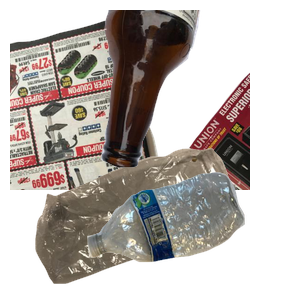glass: (99, 10, 300, 170)
paper: (10, 15, 250, 195)
plastic: (85, 170, 300, 300)
trash: (33, 145, 270, 300)
